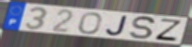2: (50, 9, 76, 34)
3: (24, 7, 50, 31)
J: (105, 15, 130, 37)
O: (78, 11, 104, 35)
S: (129, 15, 157, 41)
Z: (153, 18, 183, 43)
